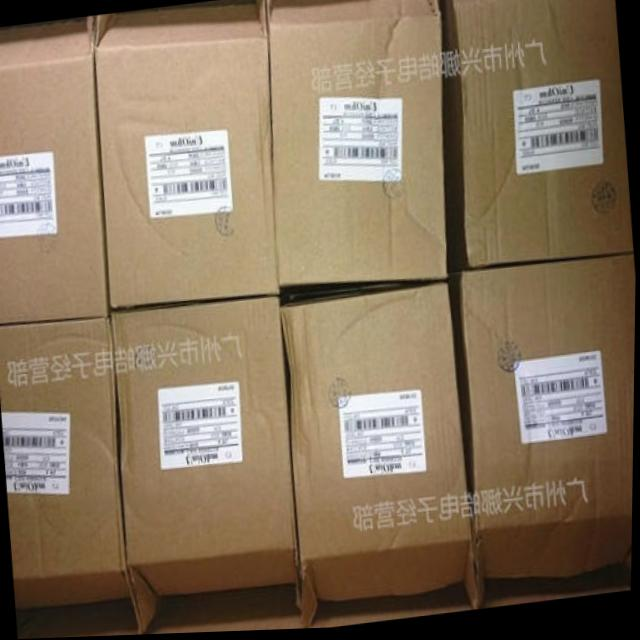box: (280, 275, 477, 631), (450, 260, 636, 613), (109, 298, 301, 636), (92, 0, 280, 309), (440, 0, 634, 275), (265, 0, 450, 288), (0, 314, 140, 636), (0, 16, 111, 325)
